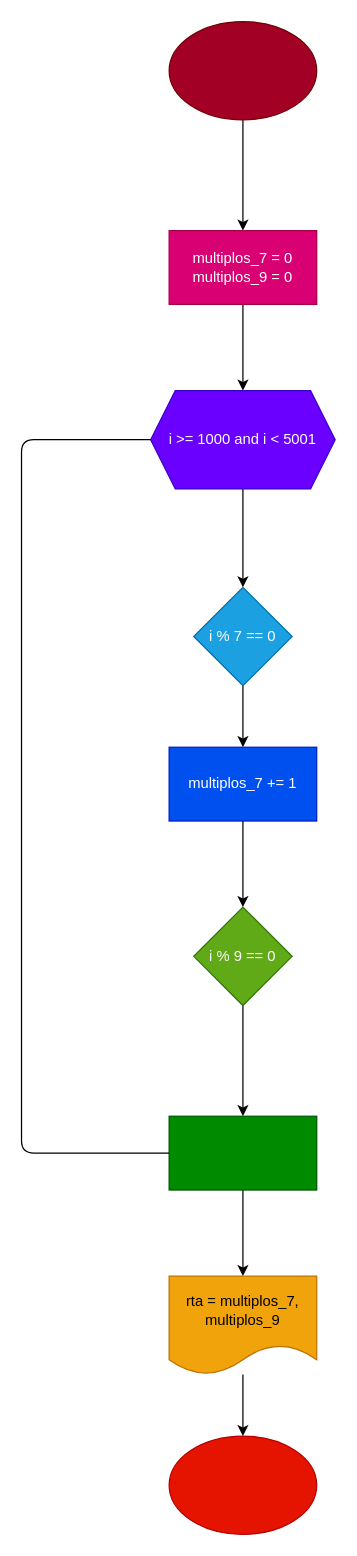
Image size: 357x1556. Some labels were removed from this diagram. The centre of each missing label's shape, as x and y in pixels:
"FIN" belongs at [242,1484].
"INICIO" belongs at [242,70].
"multiplos_9 += 1" belongs at [242,1152].
